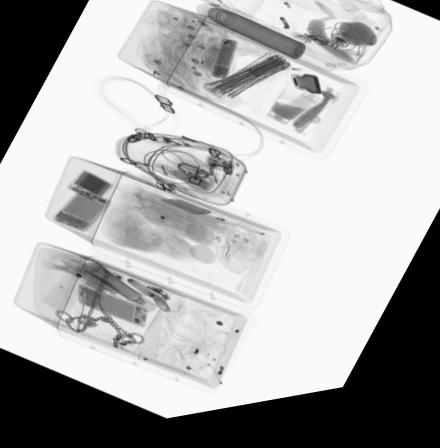Powerbank: (67, 172, 111, 205)
